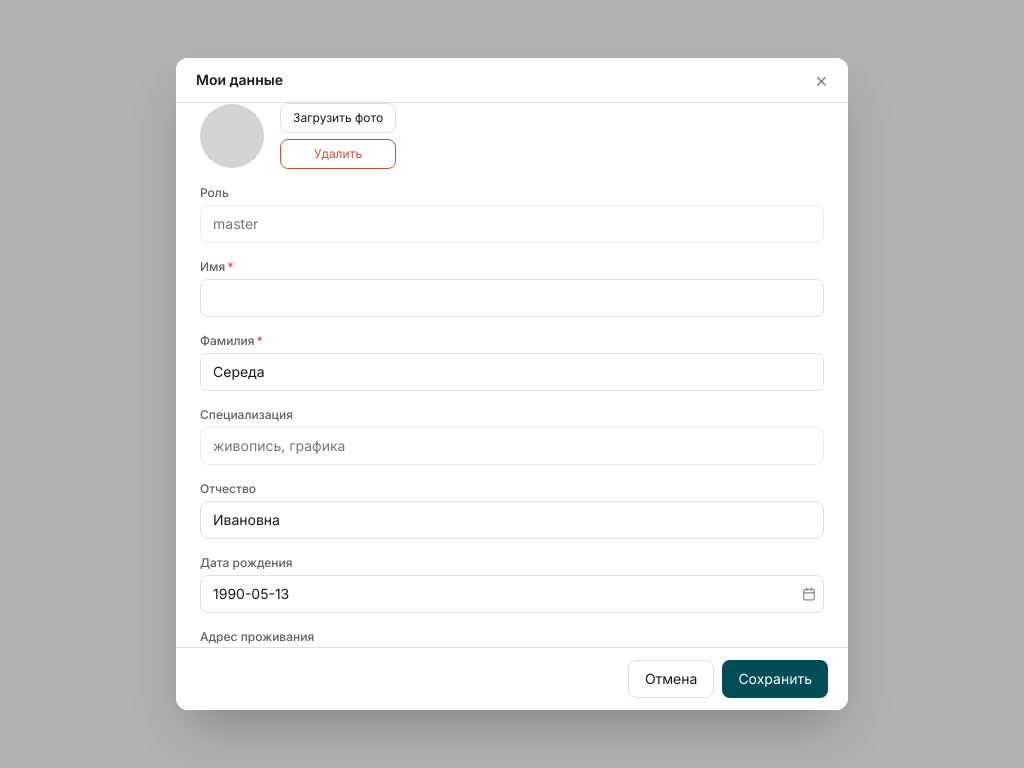
Scenario: MyDataModal — submit + dirty guard › blocks required names: empty first_name → inline error, no PUT
Check: the element with test id "mydata-form" is shown, box [176,103,848,647]
Replace the text in the field with test id "mydata-patronymic" with "X" at (512,520), box [200,501,824,539]
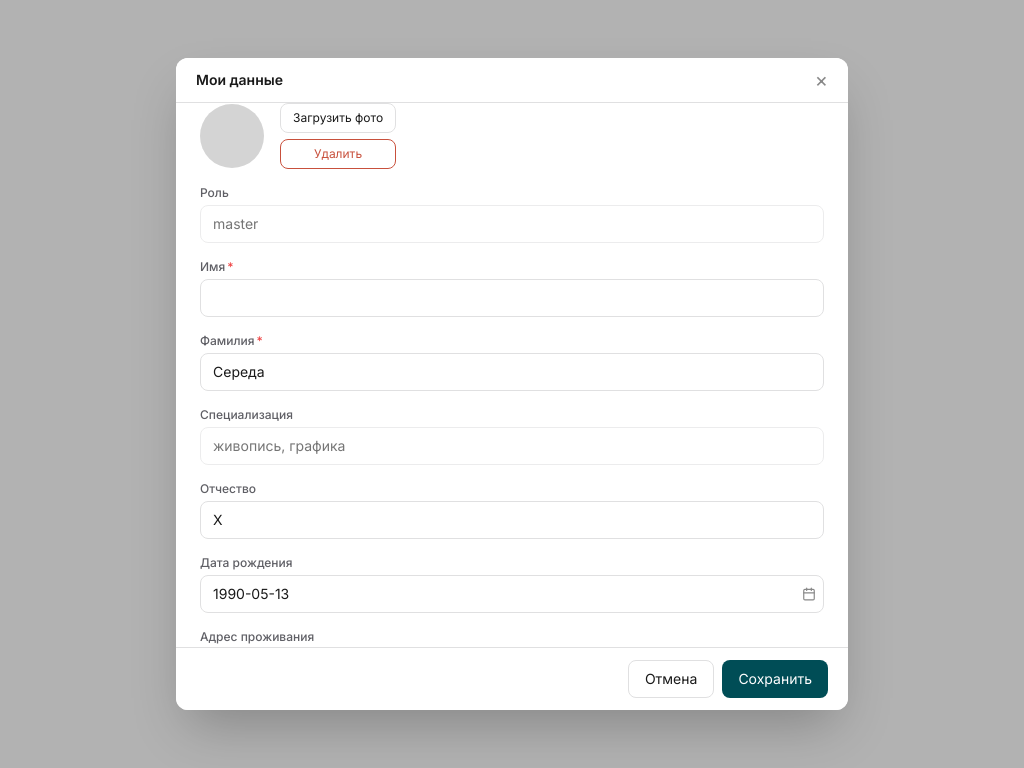
Click the button with test id "mydata-submit" at (775,679), box [722,660,828,698]
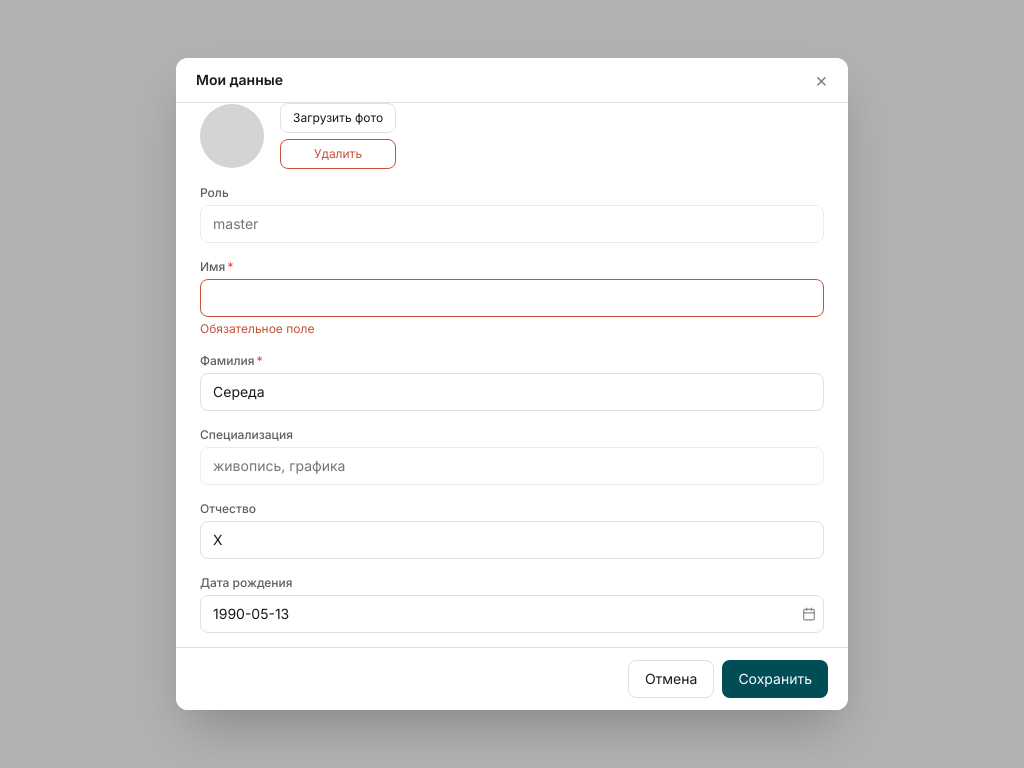
Check: the text "Обязательное поле" is shown, box [200,321,314,336]
